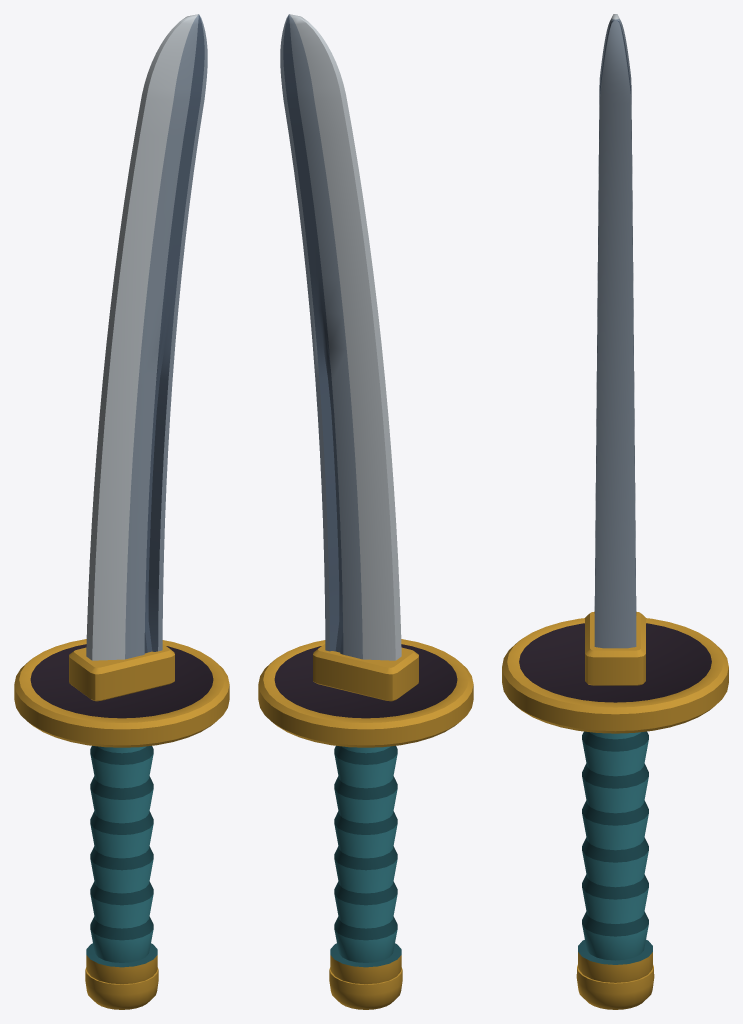
File: Katana_03.glb
The picture shows the model from 3 angles, left to right: view 1: azimuth 30°, elevation 25°; view 2: azimuth 150°, elevation 25°; view 3: azimuth 270°, elevation 25°; orthographic projection. The views are drawn at different scales.
Parts seen in each view (by area): view 1: Katana_03; view 2: Katana_03; view 3: Katana_03.
Part boxes in pixels (left/top/right/bottom): Katana_03: left=14, top=14, right=229, bottom=1009; Katana_03: left=258, top=14, right=473, bottom=1009; Katana_03: left=502, top=14, right=728, bottom=1009.
Size of the model in its own units: 1.34 by 6.63 by 1.34.
